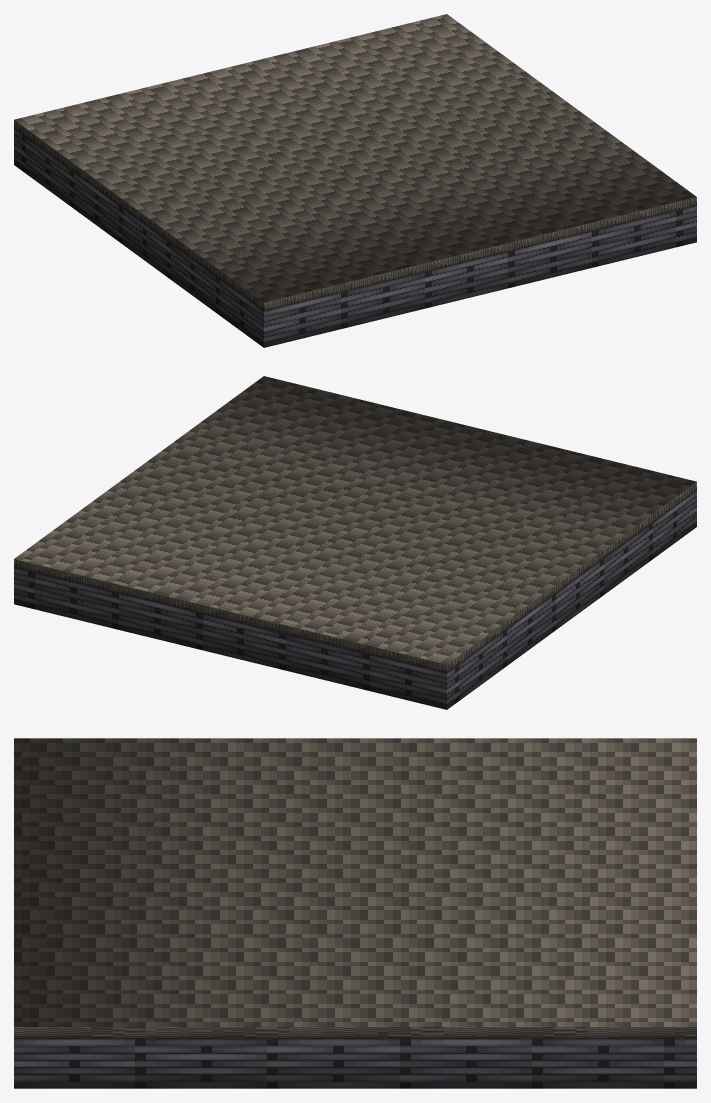
File: floor_cobble.gltf
3 renders of one model, top to bottom at view 1: azimuth 30°, elevation 25°; view 2: azimuth 150°, elevation 25°; view 3: azimuth 270°, elevation 25°, orthographic. The views are drawn at different scales.
Parts seen in each view (by area): view 1: floor_cobble; view 2: floor_cobble; view 3: floor_cobble.
Boxes of the visible parts, x1,y1,x2,y2 form: floor_cobble: [14, 14, 696, 347]; floor_cobble: [14, 376, 696, 709]; floor_cobble: [14, 738, 696, 1088].
Bounding box in the file's own units: 1 × 0.1 × 1.
Materials: 1 (1 with a texture image).
